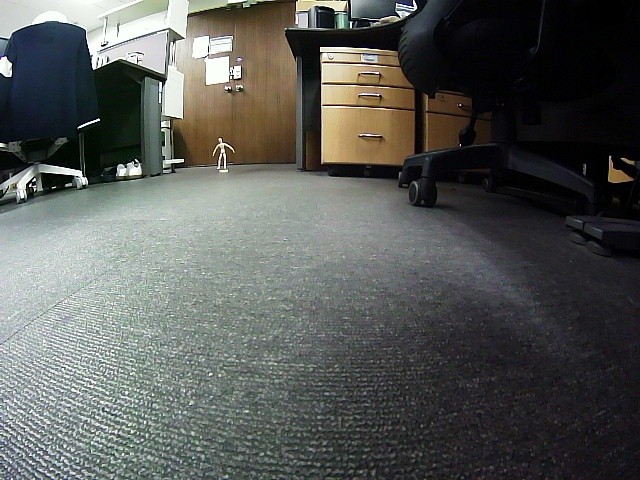person: (212, 138, 234, 169)
